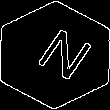N_SW: (21, 23, 89, 87)
